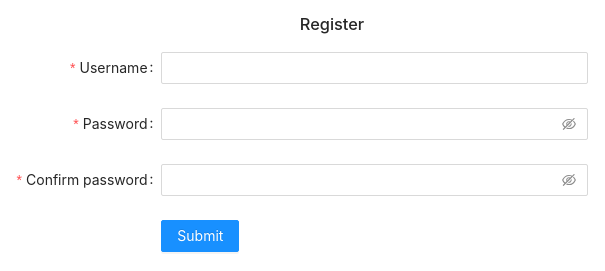
Test case: form should show proper messages for empty fields
Click the button "Submit": {"x": 200, "y": 236} [161,220,239,252]
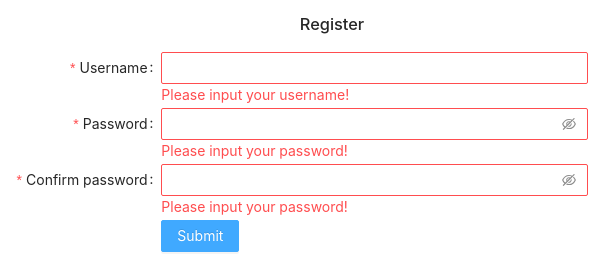
Result: the text "Please input your username!" is shown at [161,86,349,103]
Result: the 1st text "Please input your password!" is shown at [161,142,348,159]
Result: the text "Please input your password!" below "Confirm password" is shown at [161,198,348,215]
